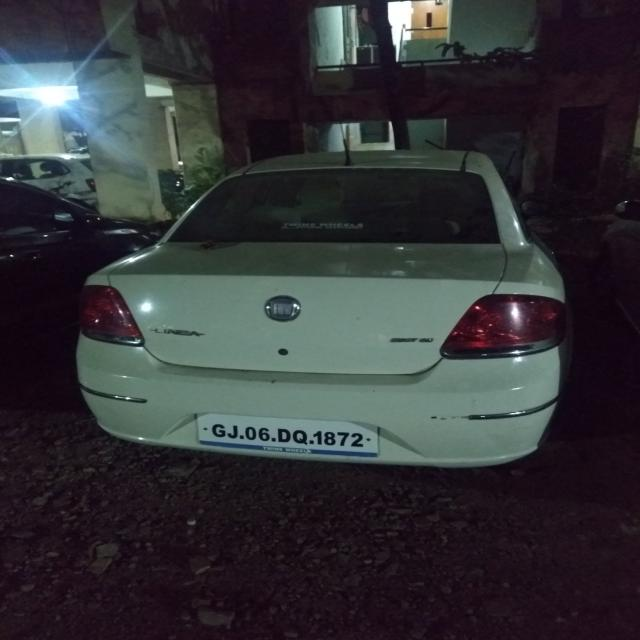Number-Plate: (200, 410, 380, 454)
